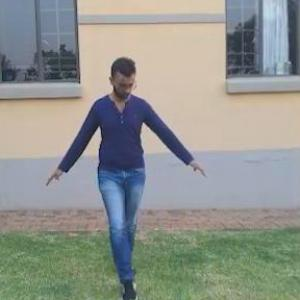land: (51, 40, 211, 284)
